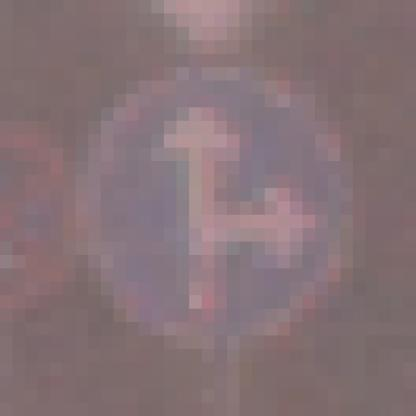Straight or Right: (77, 68, 354, 350)
